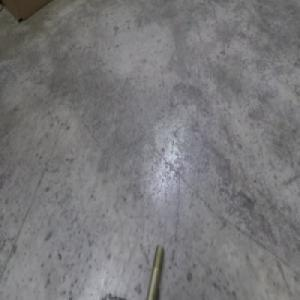Bolt: (146, 244, 164, 300)
